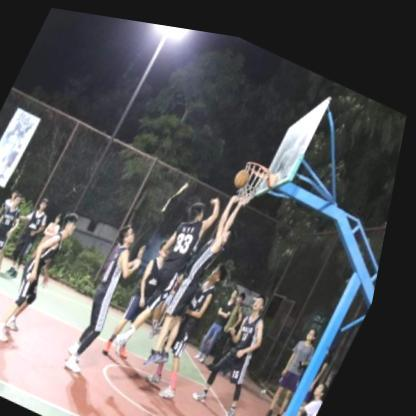basketball: (236, 158, 257, 182)
rim: (236, 149, 278, 200)
